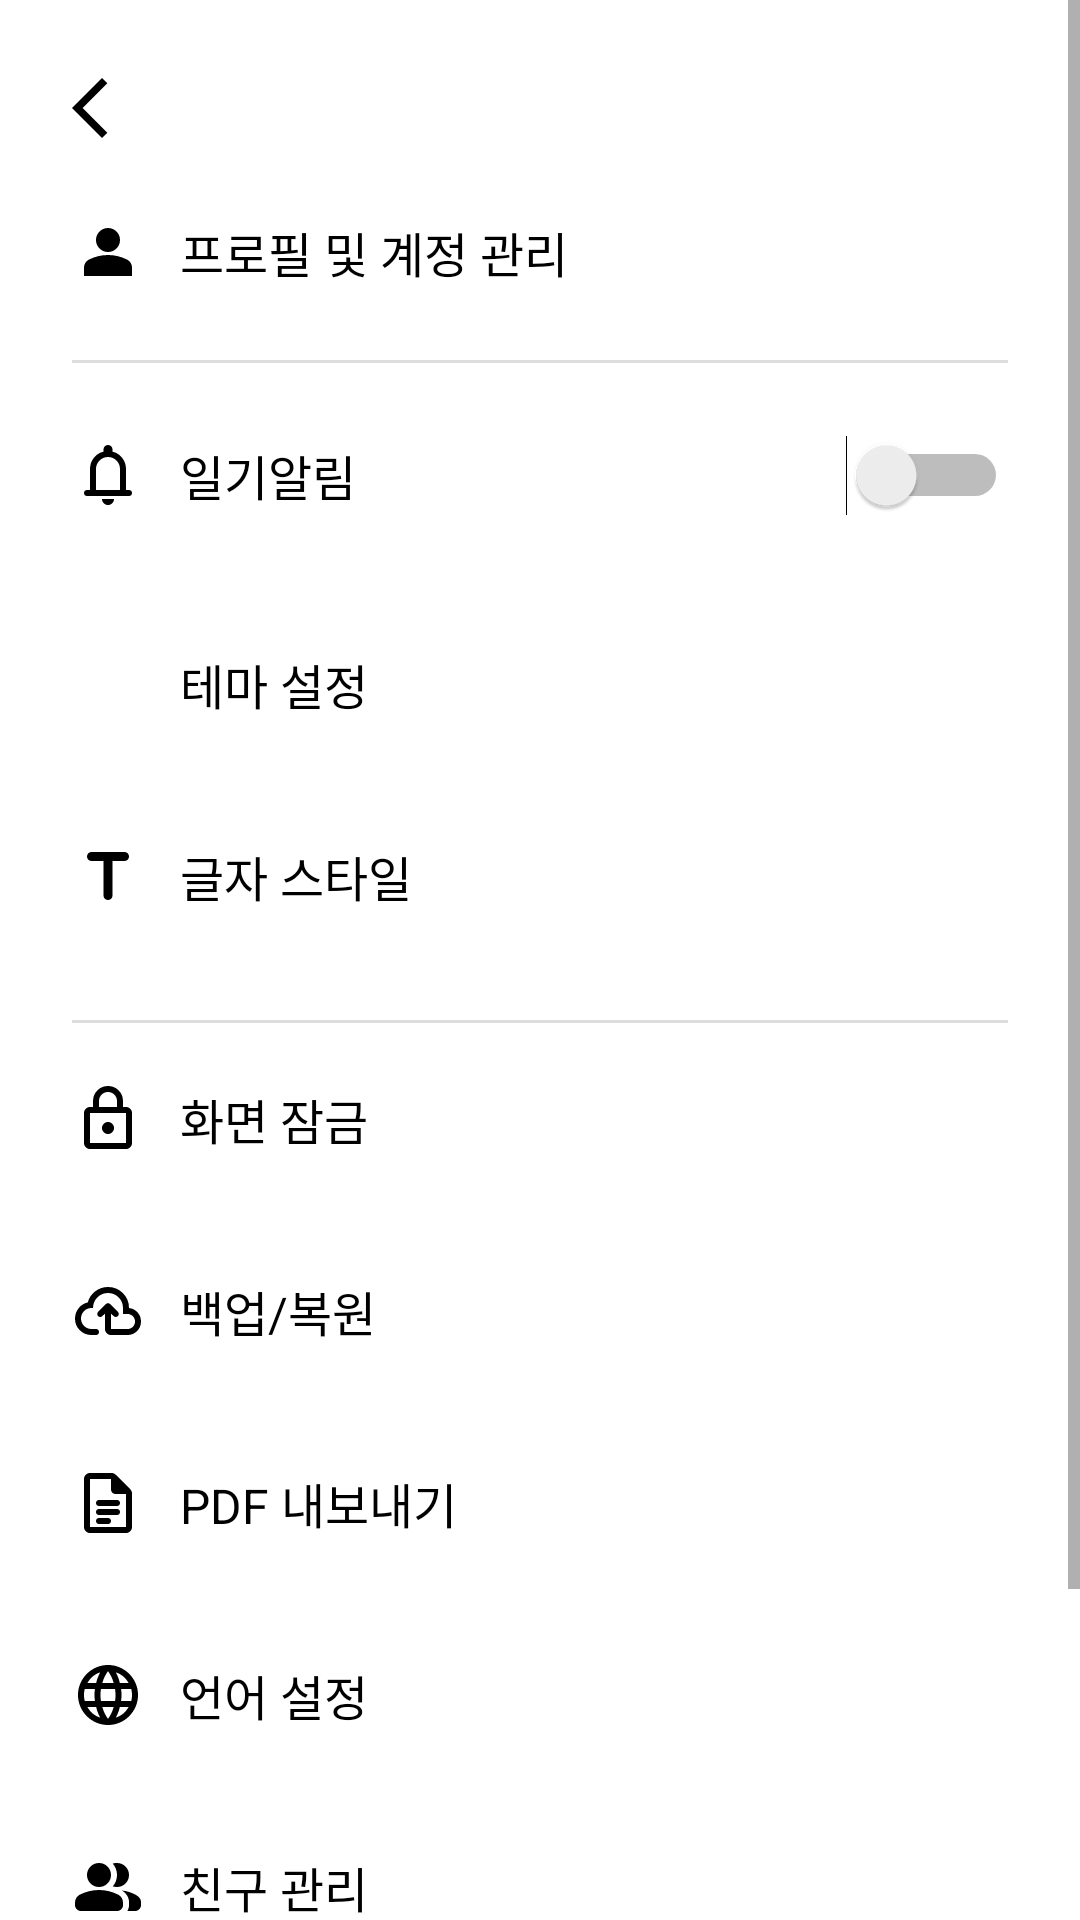

Named icons in this screenshot (1080×1920) and their centers, [x,y]:
PDF 아이콘: [108,1503]
뒤로가기: [89,108]
알림 아이콘: [108,475]
프로필 아이콘: [108,252]
